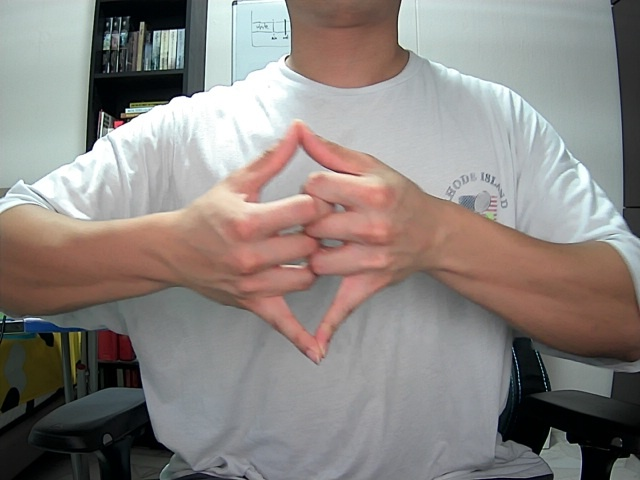Dragon: (196, 114, 446, 382)
